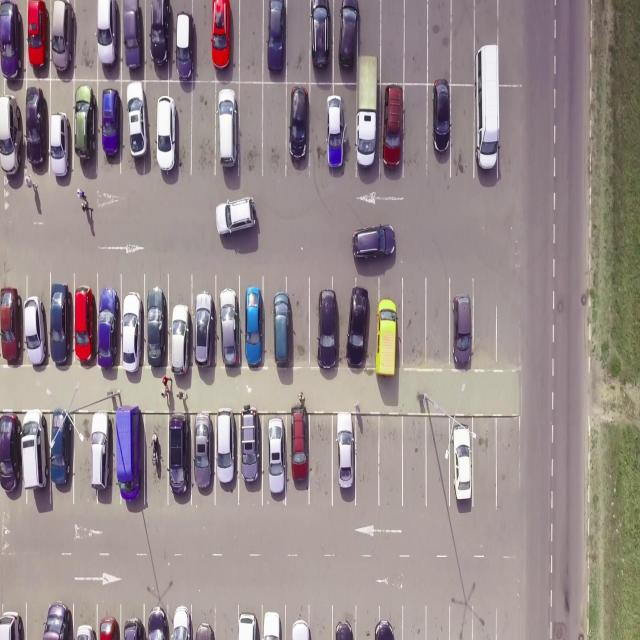Car: (116, 406, 141, 500), (20, 411, 48, 490), (345, 287, 369, 368), (168, 412, 190, 494), (25, 87, 47, 166), (0, 96, 22, 174), (98, 288, 119, 369), (0, 413, 22, 490), (382, 88, 403, 168), (122, 292, 143, 372), (50, 409, 72, 485), (0, 1, 22, 77), (0, 288, 22, 363), (216, 196, 256, 237), (376, 299, 397, 377), (51, 1, 74, 72), (317, 289, 337, 370), (50, 283, 70, 364), (126, 82, 147, 158), (195, 290, 216, 366), (156, 96, 177, 171), (220, 288, 240, 366), (216, 409, 236, 487), (218, 90, 238, 168), (74, 287, 94, 365), (74, 86, 95, 160), (240, 405, 260, 482), (288, 86, 308, 162), (24, 296, 46, 365), (147, 288, 166, 367), (91, 412, 110, 490), (452, 426, 472, 500), (96, 0, 118, 67), (452, 293, 472, 366), (27, 0, 48, 69), (336, 412, 355, 488), (194, 412, 213, 488), (245, 286, 263, 366), (273, 291, 292, 366), (268, 415, 286, 494), (266, 0, 286, 71), (171, 304, 191, 375), (354, 224, 394, 259), (339, 0, 359, 70), (290, 405, 308, 482), (310, 0, 330, 69), (432, 79, 450, 153), (326, 94, 344, 167), (211, 0, 230, 69), (150, 1, 170, 66), (123, 0, 142, 68), (102, 87, 120, 157), (50, 112, 69, 176), (41, 602, 72, 640), (176, 11, 193, 79), (0, 610, 25, 638), (148, 607, 169, 640), (173, 606, 193, 640), (238, 612, 260, 640), (262, 612, 282, 640), (124, 617, 147, 640), (99, 617, 120, 640), (374, 619, 395, 640), (292, 618, 312, 640), (194, 621, 215, 640), (335, 619, 353, 640), (76, 624, 96, 640)
Van: (471, 41, 508, 186), (356, 56, 377, 170)
